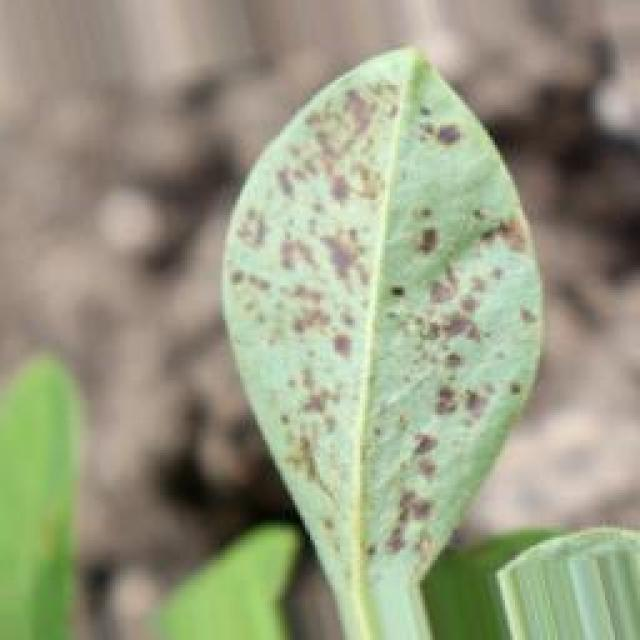Whitefly: (189, 56, 541, 614)
